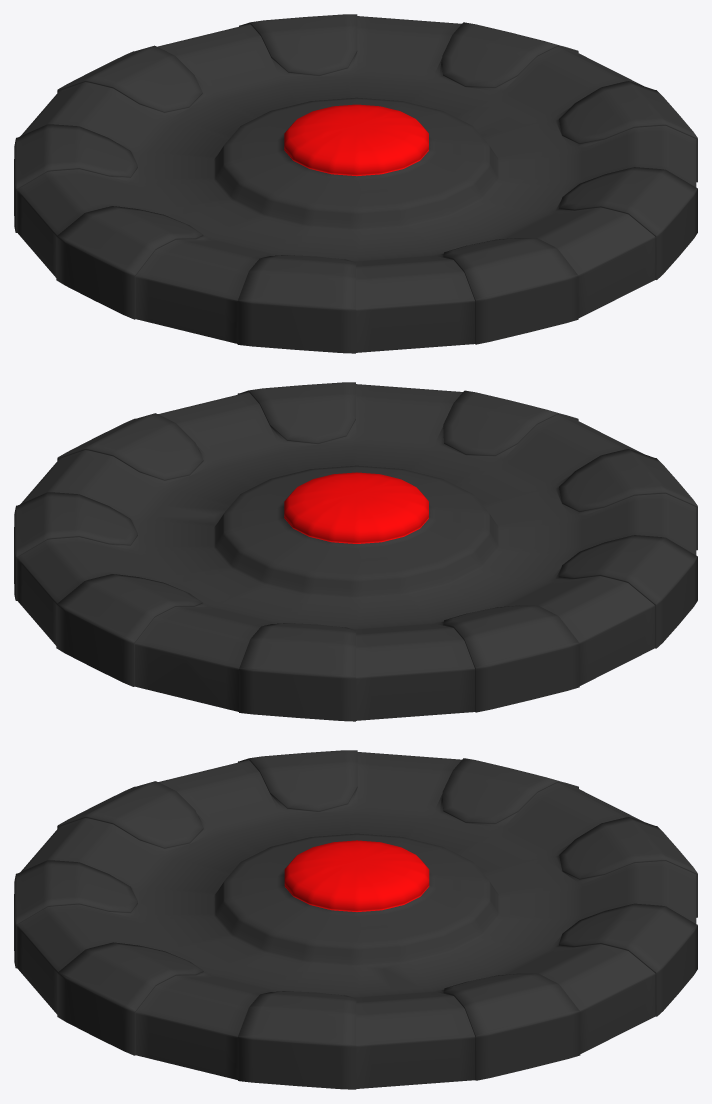
Rendered from mine.FBX.
3 views of the same model, one above another, from view 1: azimuth 30°, elevation 25°; view 2: azimuth 150°, elevation 25°; view 3: azimuth 270°, elevation 25° (orthographic).
Visible parts, largest first — view 1: Cylinder001; view 2: Cylinder001; view 3: Cylinder001.
Part boxes in pixels (<box>): Cylinder001: <box>14,14,697,353</box>; Cylinder001: <box>14,382,697,721</box>; Cylinder001: <box>14,750,697,1089</box>.
Bounding box in the file's own units: 38.25 × 4.99 × 37.74.
